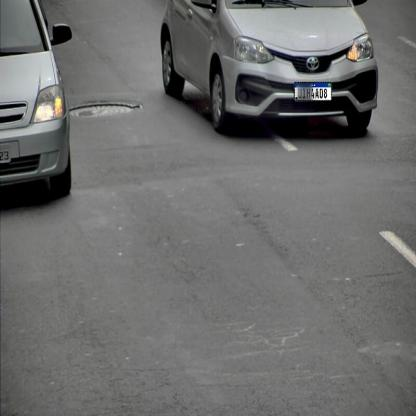PlacaM: (294, 82, 332, 101)
